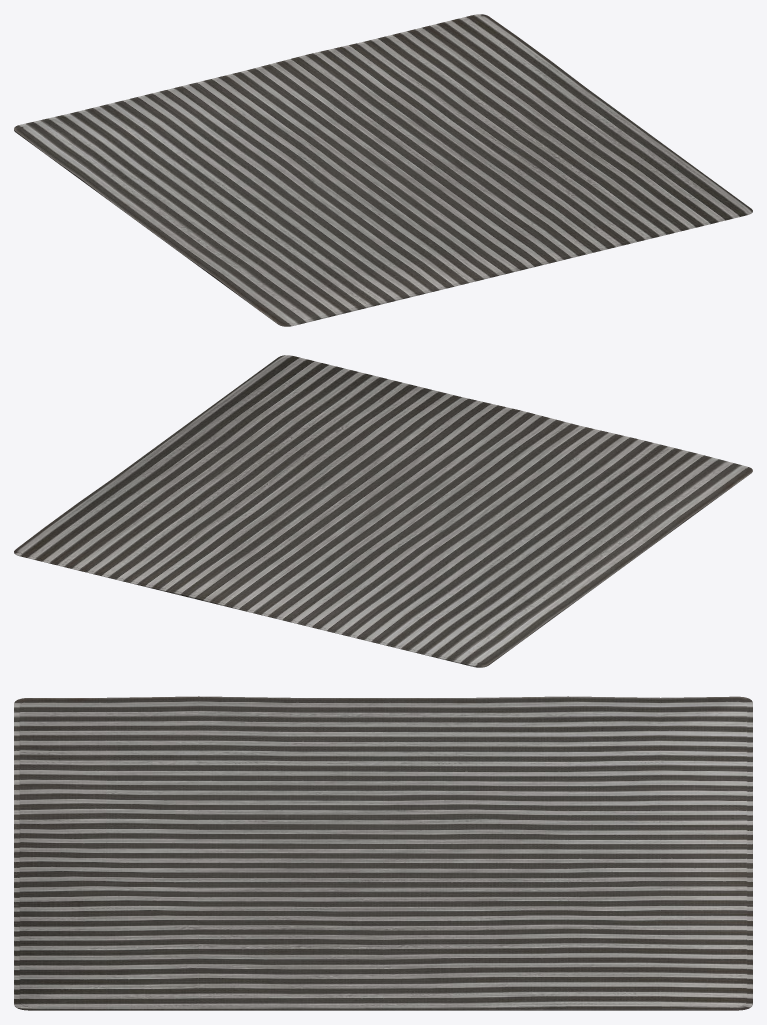
Rendered from Textile_rug_02.glb.
3 views of the same model, one above another, from view 1: azimuth 30°, elevation 25°; view 2: azimuth 150°, elevation 25°; view 3: azimuth 270°, elevation 25° (orthographic). The views are drawn at different scales.
Visible parts, largest first — view 1: rug_02; view 2: rug_02; view 3: rug_02.
Part boxes in pixels (<box>): rug_02: <box>14,14,752,326</box>; rug_02: <box>14,355,752,667</box>; rug_02: <box>14,696,752,1010</box>.
Bounding box in the file's own units: 2 × 0.0065 × 2.
1 material, 1 textured.
